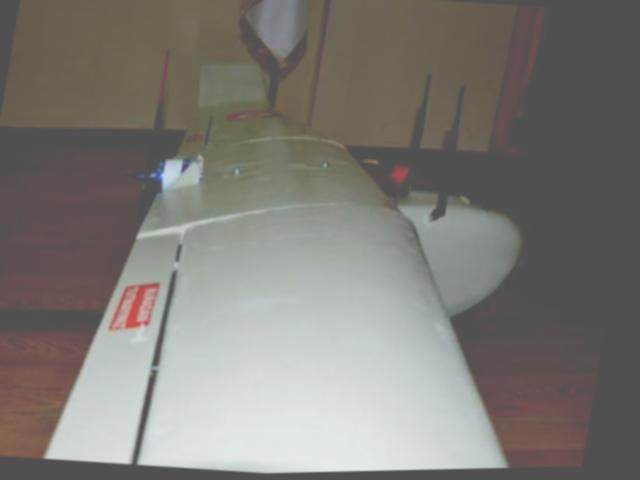iha: (39, 38, 617, 479)
